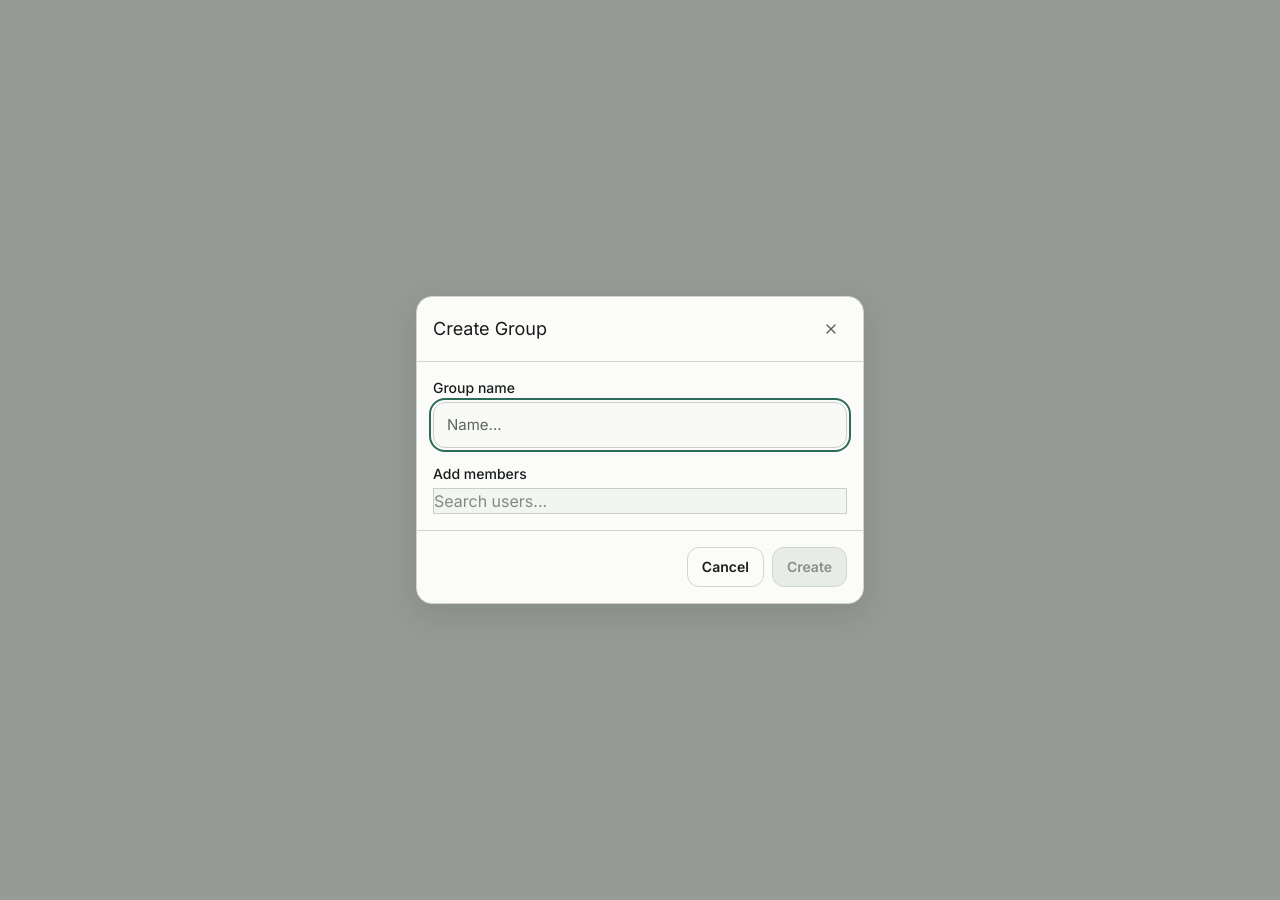
Test case: CreateRoomModal dialog › keeps create failures visible and removes redundant field and chip styling
The width and height of the screenshot is (1280, 900).
Type "Team" into the field labelled "Group name".
click(640, 425); type("Team")  # box 433,402 -> 847,448
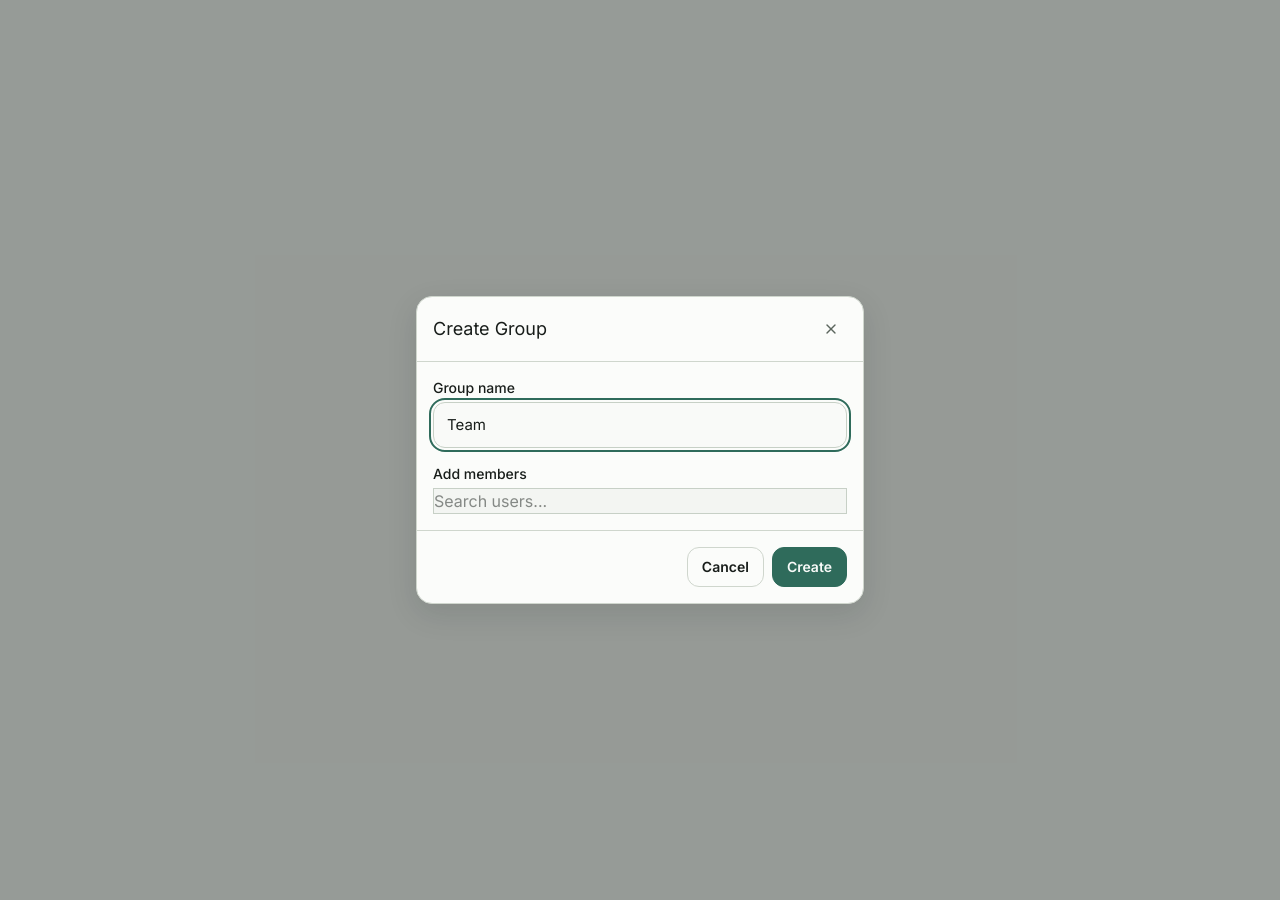
Click the button "Create".
click(809, 567)  # box 772,547 -> 847,587
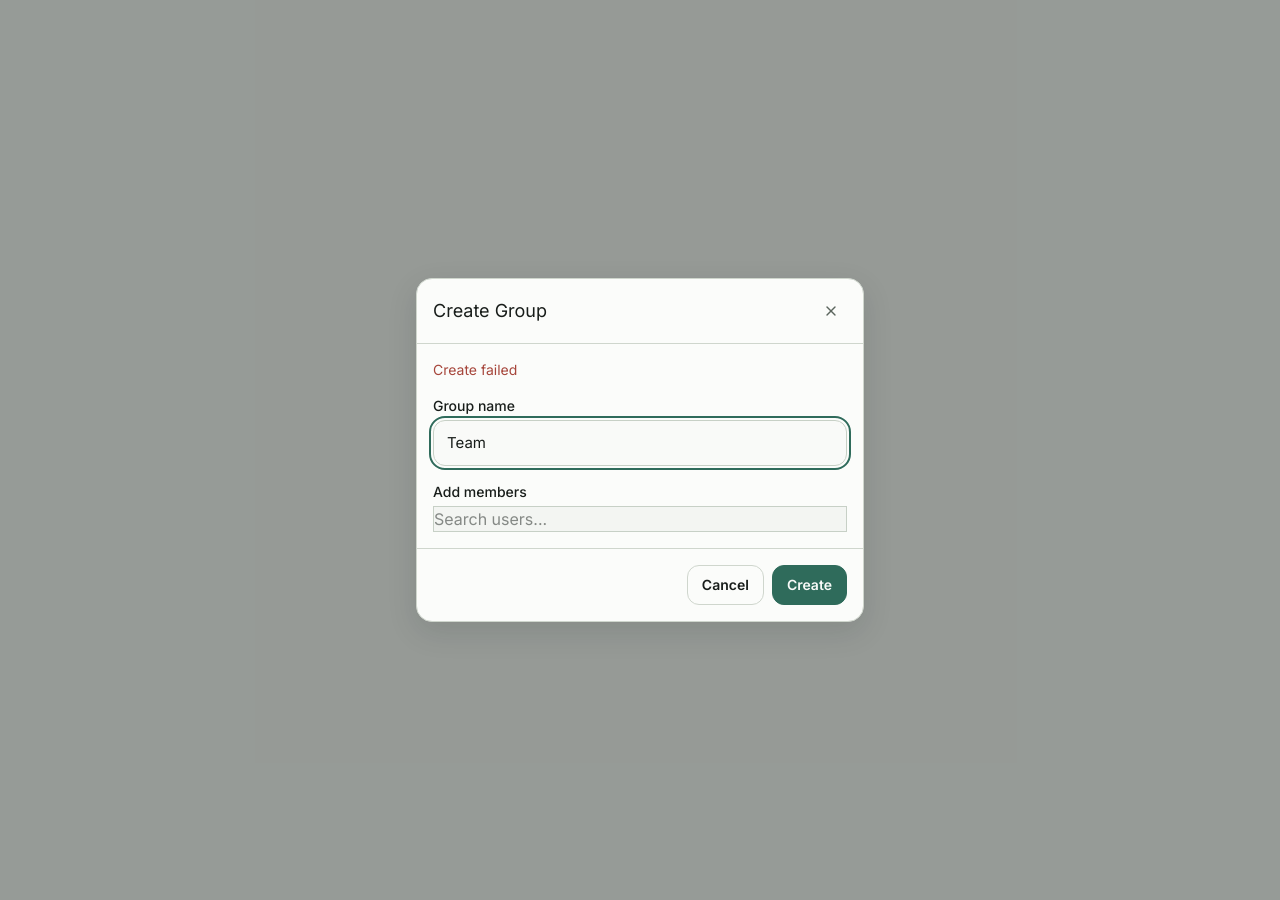
Expected: the message reads "Create failed", 433,361 -> 517,378
